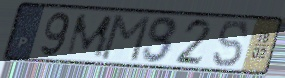2: (173, 17, 215, 67)
9: (140, 15, 181, 66), (38, 10, 72, 58)
M: (98, 13, 153, 64), (62, 13, 116, 59)
S: (211, 19, 251, 69)
